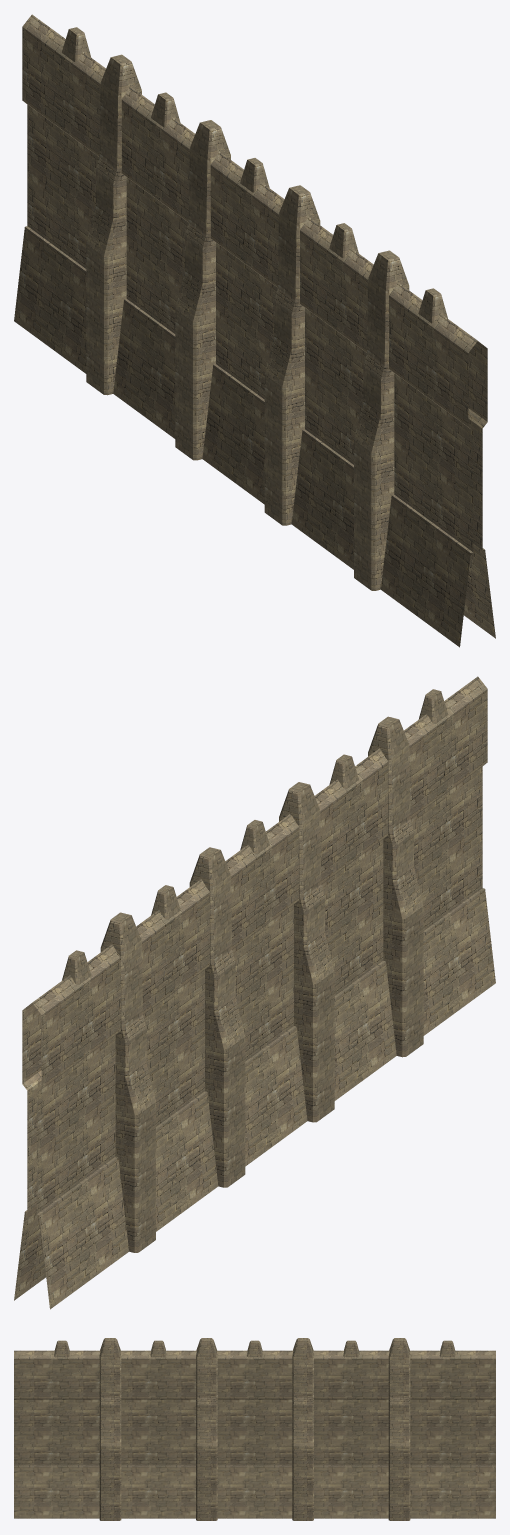
Rendered from Wall_C.FBX.
3 views of the same model, one above another, from view 1: azimuth 30°, elevation 25°; view 2: azimuth 150°, elevation 25°; view 3: azimuth 270°, elevation 25° (orthographic). The views are drawn at different scales.
Visible parts, largest first — view 1: Wall_C; view 2: Wall_C; view 3: Wall_C.
Boxes of the visible parts, x1,y1,x2,y2 form: Wall_C: (14,14,495,647); Wall_C: (14,676,495,1309); Wall_C: (14,1338,495,1520).
Size of the model in its own units: 203 by 1197 by 3000.
